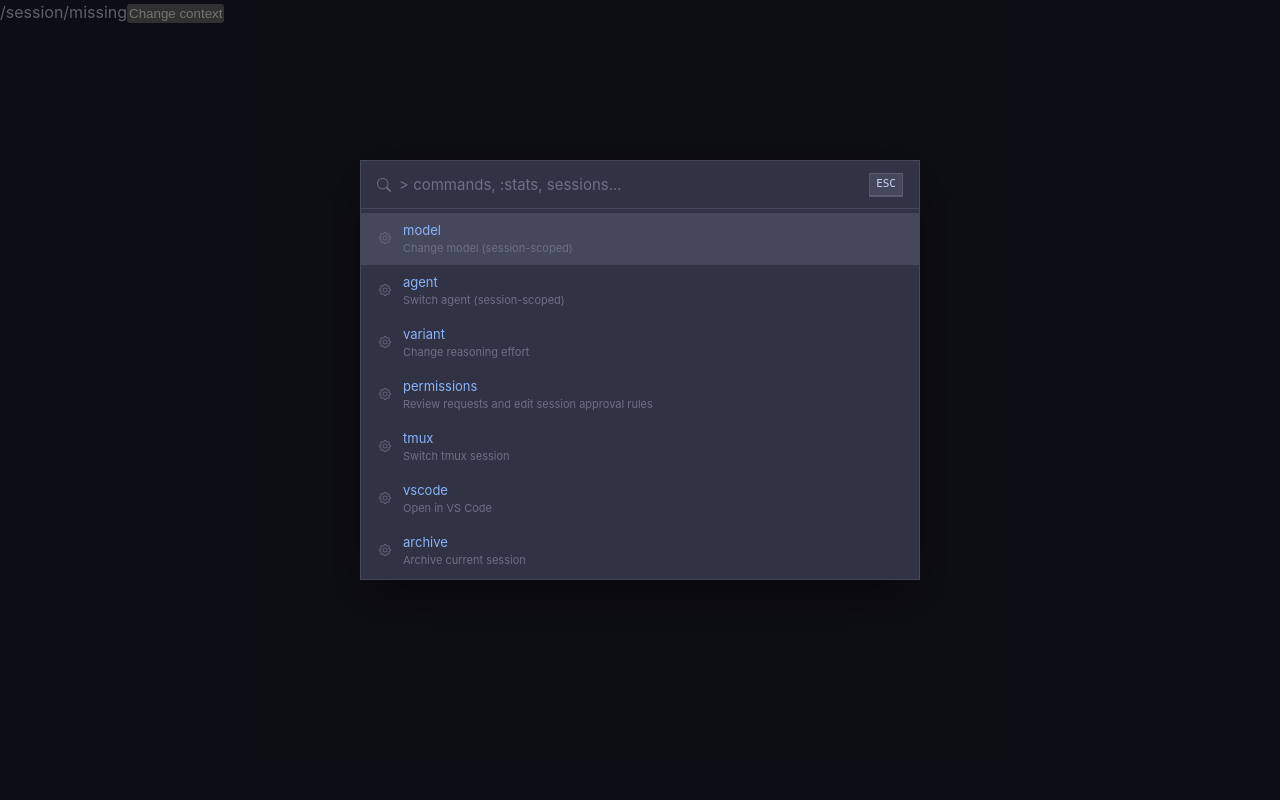
Test: plugin command contributions › shows failure lookup results without opening a local worktree
Type ">wt" into the dropdown at [630, 184], box [399,175,861,194]
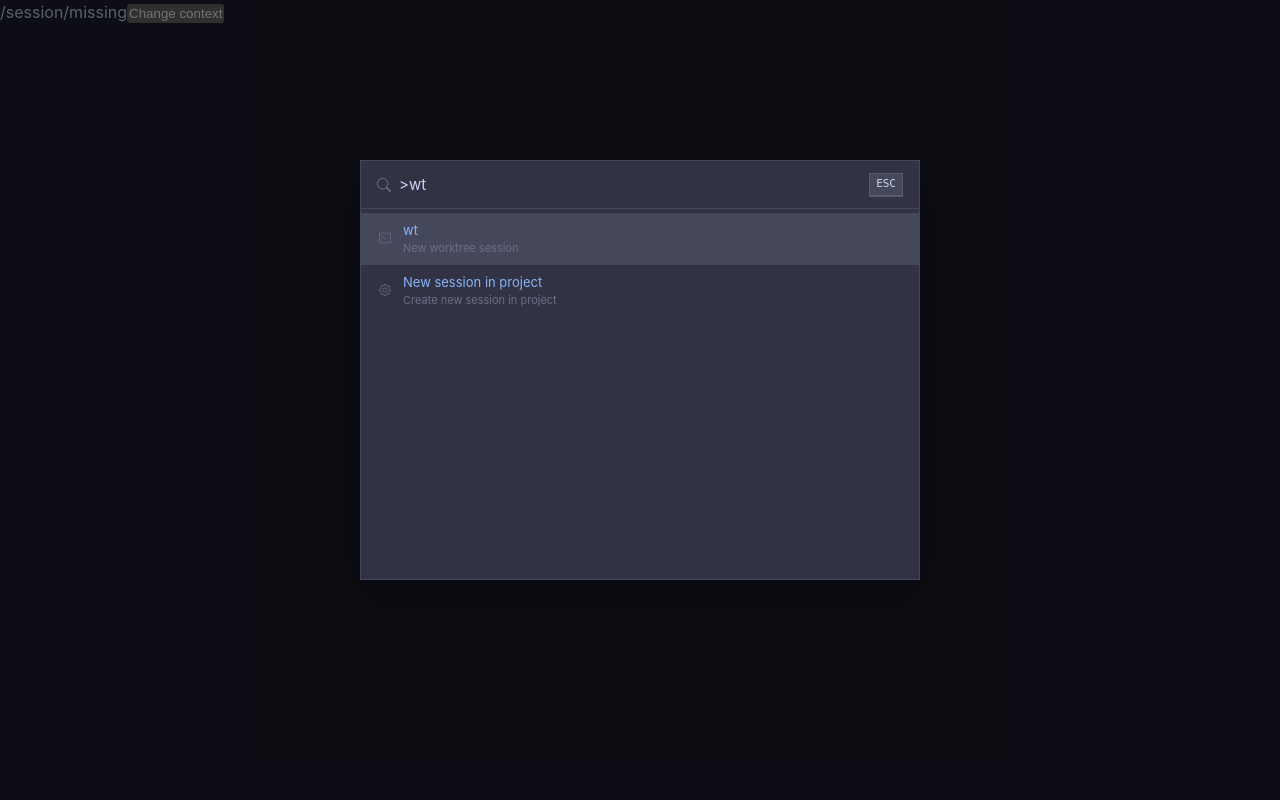
Click the option "wt New worktree session" at [461, 248], box [361,212,919,264]
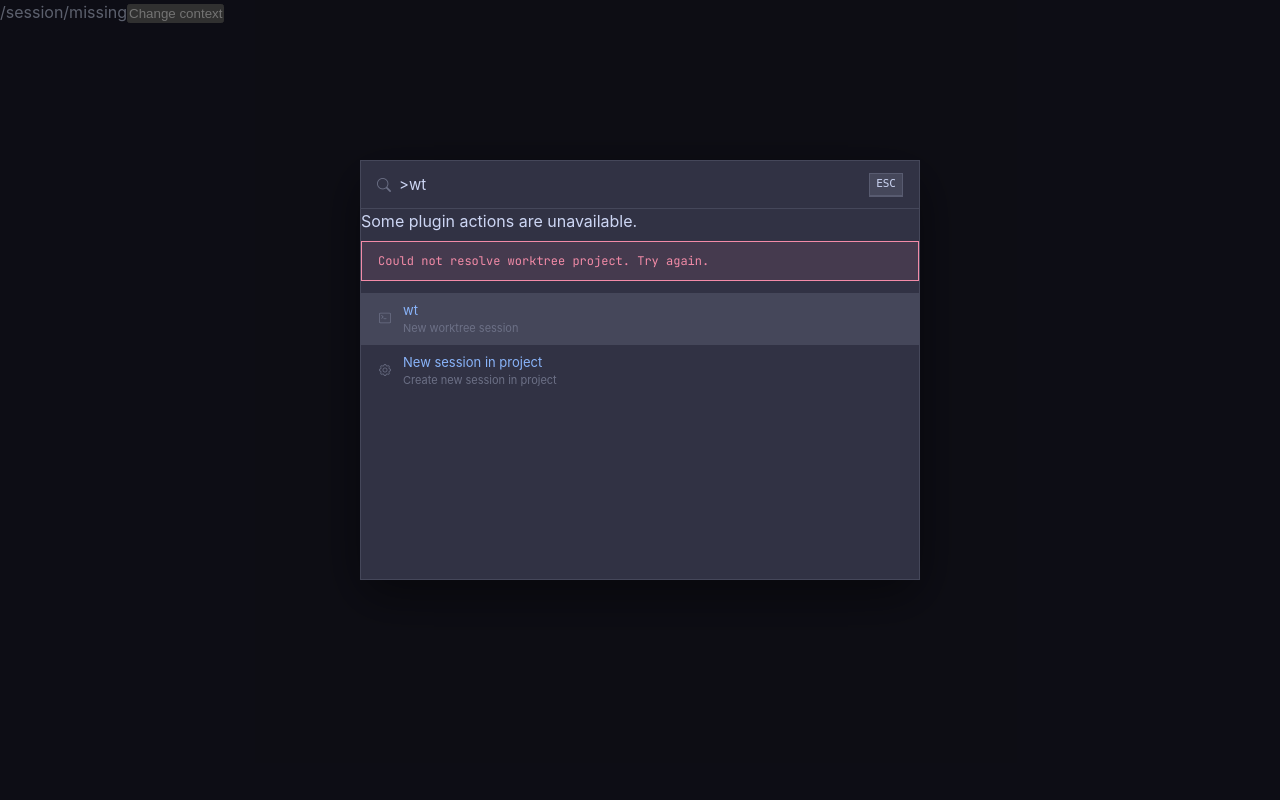
Expected: the message "Could not resolve worktree project. Try again." is shown, [361,240,919,280]
